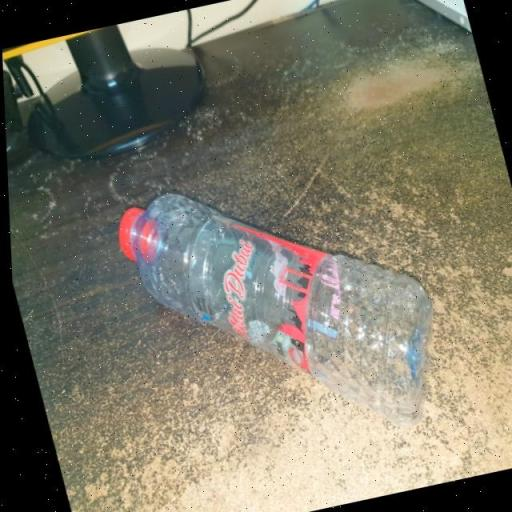plastic: (116, 194, 431, 427)
